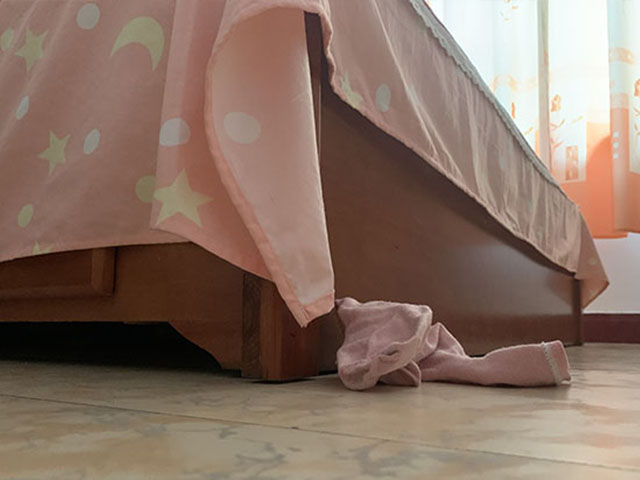bed: (1, 1, 612, 384)
curtain: (540, 1, 640, 239)
socks: (334, 294, 582, 392)
